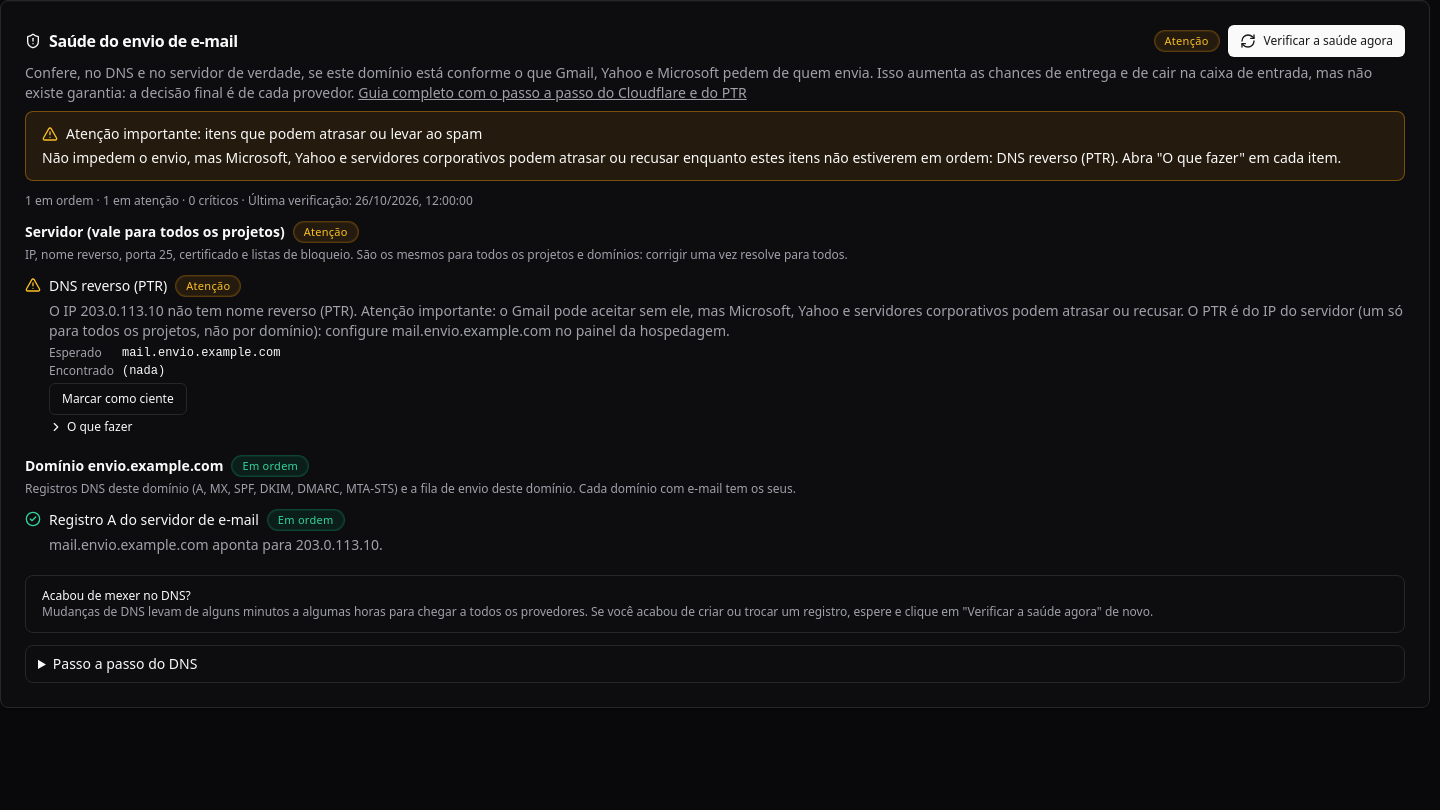
it: marcar como ciente › marca com motivo (PUT), o item vira 'Ciente' e sai do atenção, do selo e do aviso amarelo
Expected: the text "Atenção importante: itens que podem atrasar ou levar ao spam" is shown, x1=42 y1=124 x2=482 y2=143
Click the button with test id "ack-open-ptr".
click(118, 399)  # box x1=49 y1=383 x2=187 y2=415
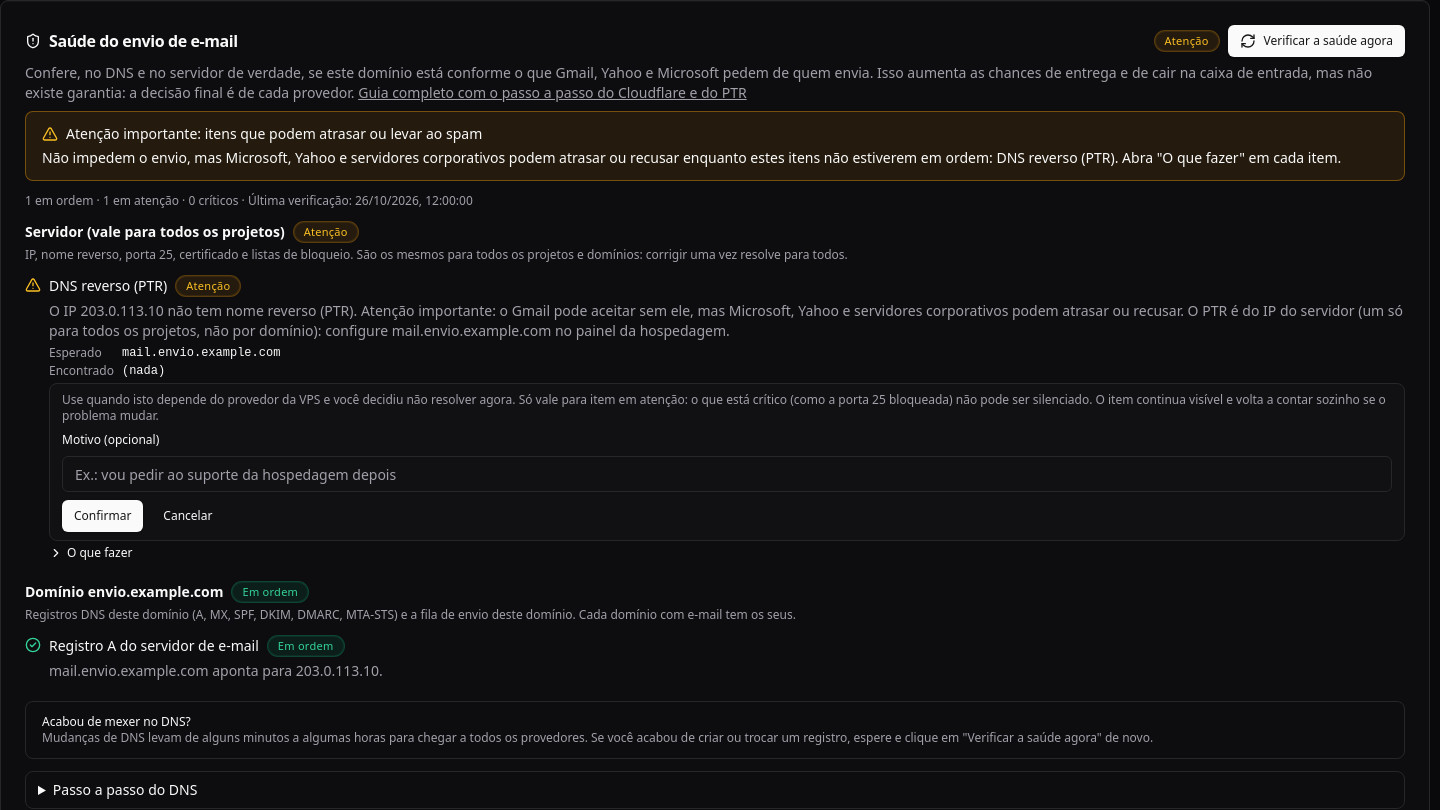
Type "vou pedir ao suporte" into the field labelled "Motivo (opcional)".
click(727, 474); type("vou pedir ao suporte")  # box x1=62 y1=456 x2=1392 y2=492
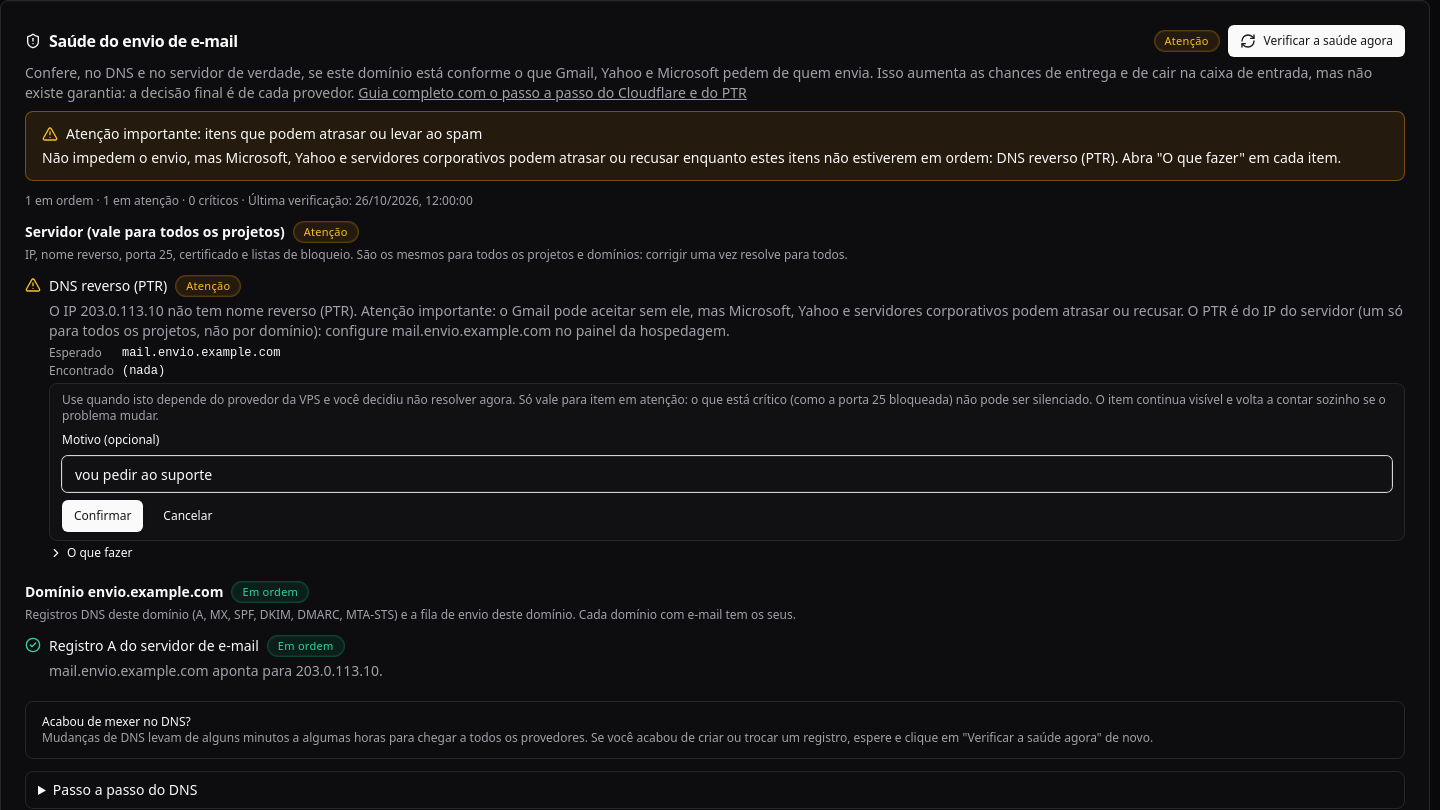
Click the button "Confirmar".
click(103, 516)  # box x1=62 y1=500 x2=143 y2=532
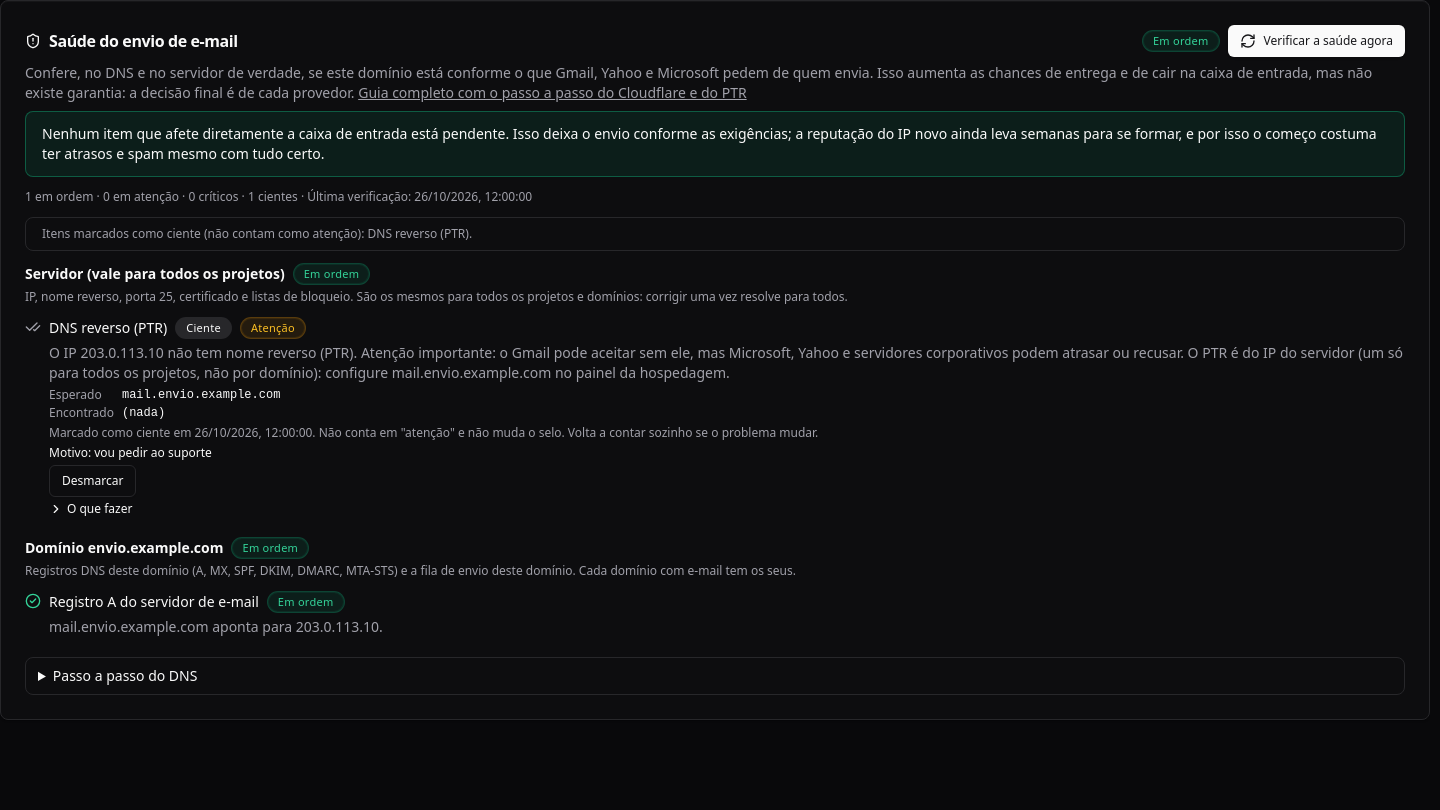
Expected: the text "Atenção importante: itens que podem atrasar" is gone
Expected: the text "Ciente" is shown, x1=175 y1=317 x2=232 y2=339
Expected: the element with test id "ack-note-ptr" shows "Marcado como ciente em", x1=49 y1=424 x2=818 y2=441
